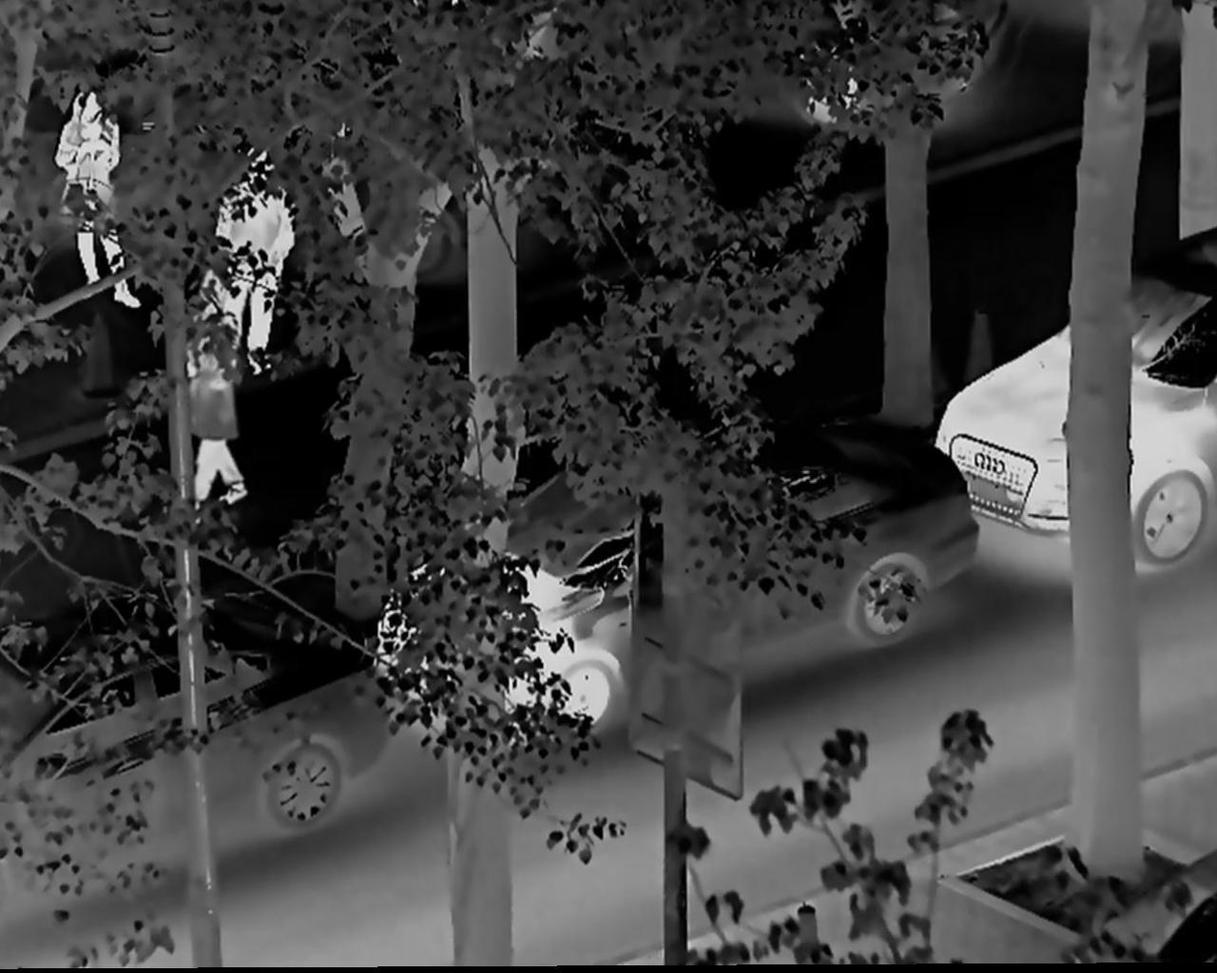person: (155, 276, 253, 520), (206, 132, 297, 378), (48, 82, 136, 315)
